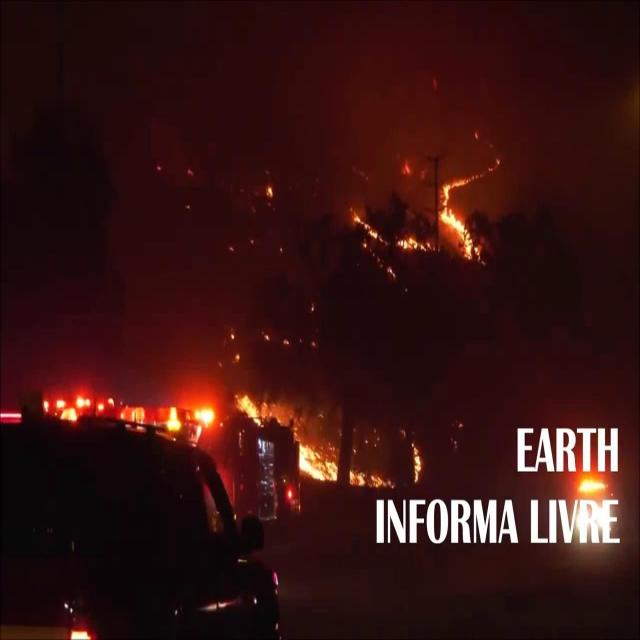Fire: (444, 158, 500, 265), (238, 392, 290, 427), (301, 445, 339, 482), (353, 213, 388, 247), (350, 469, 396, 491), (398, 238, 432, 252), (412, 442, 422, 482), (402, 160, 411, 175), (267, 185, 273, 196)
